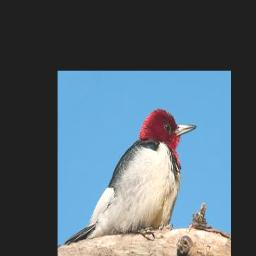Woodpecker: (64, 108, 197, 244)
